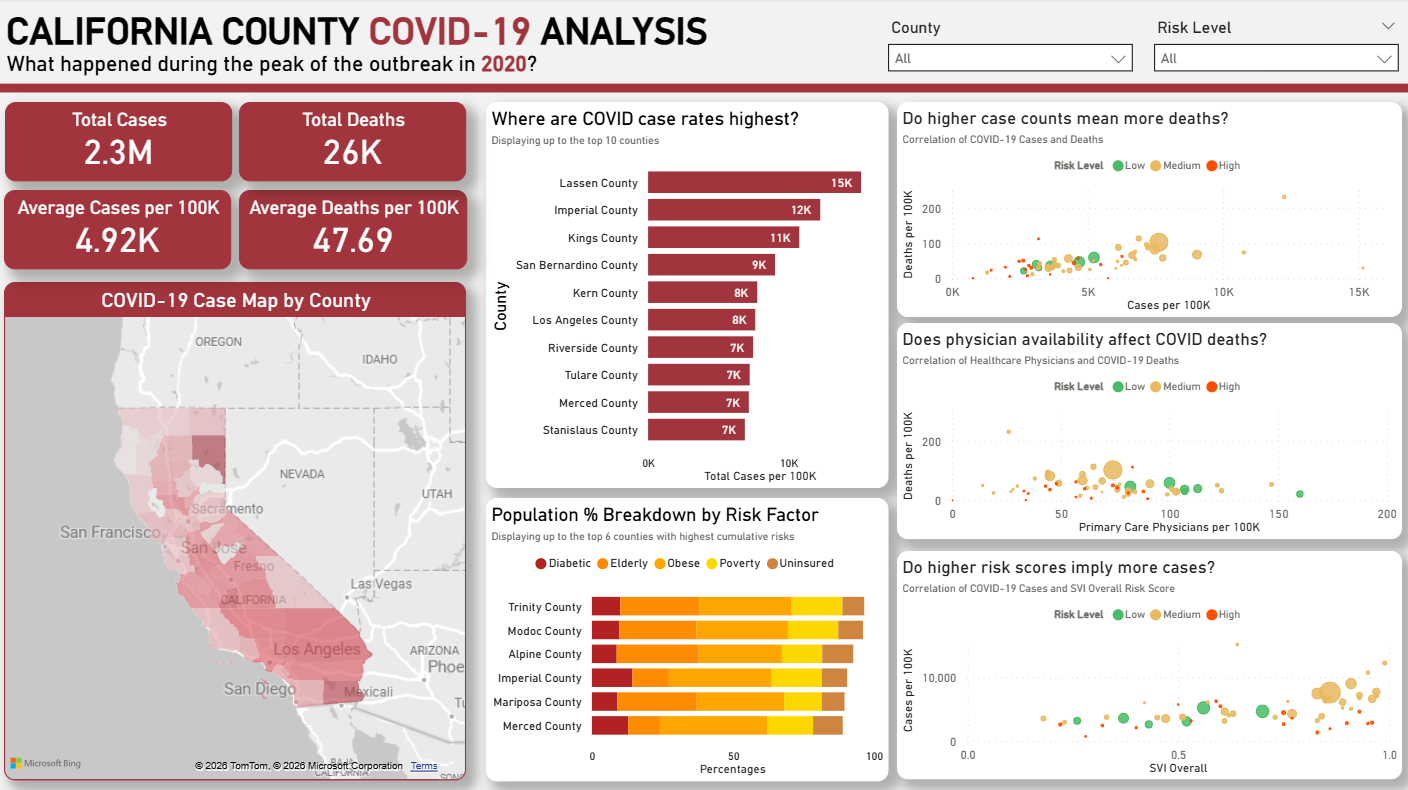

The dashboard page shown, as its layout file describes it:
{"tool":"powerbi","page":{"name":"Dashboard Overview","canvas":[1280,720],"ordinal":0},"visuals":[{"type":"card","title":"Total Cases","fields":{"Values":["Sum(County Data.Total Cases)"]},"box":[6,94,205.6,72],"z":0},{"type":"filledMap","title":"COVID-19 Case Map by County","fields":{"Category":["County Data.County"]},"box":[5.8,257.9,419.3,451.8],"z":1000},{"type":"clusteredBarChart","title":"Where are COVID case rates highest?","fields":{"Category":["County Data.County"],"Y":["Sum(County Data.Cases per 100K)"]},"box":[442.6,94.3,364.7,350.2],"z":4000},{"type":"scatterChart","title":"Do higher case counts mean more deaths?","fields":{"Series":["RiskLevelTable.Risk Level"],"Size":["Sum(County Data.Population)"],"X":["County Data.Cases per 100K"],"Y":["County Data.Deaths per 100K"]},"box":[815.1,94.3,458.1,194.5],"z":5000},{"type":"slicer","fields":{"Values":["County Data.County"]},"box":[796.8,13.9,241.6,61.6],"z":6000},{"type":"slicer","fields":{"Values":["RiskLevelTable.Risk Level"]},"box":[1038.4,13.9,241.6,61.6],"z":7000},{"type":"barChart","title":"Population % Breakdown by Risk Factor","fields":{"Category":["County Data.County"],"Y":["County Data.% Diabetic","County Data.% Elderly","County Data.% Obese","County Data.% Poverty","County Data.% Uninsured"]},"box":[442.6,453.3,364.7,256.8],"z":8000},{"type":"textbox","box":[3,5,663.2,70.9],"z":9000},{"type":"card","title":"Average Cases per 100K","fields":{"Values":["Avg(County Data.Cases per 100K)"]},"box":[5.8,174.2,205.6,72],"z":10000},{"type":"card","title":"Average Deaths per 100K","fields":{"Values":["Avg(County Data.Deaths per 100K)"]},"box":[218.4,174.2,206.8,72],"z":11000},{"type":"card","title":"Total Deaths","fields":{"Values":["Sum(County Data.Total Deaths)"]},"box":[218.4,94.1,205.6,72],"z":12000},{"type":"shape","box":[0,75.5,1280,12.8],"z":13000},{"type":"scatterChart","title":"Does physician availability affect COVID deaths?","fields":{"Series":["RiskLevelTable.Risk Level"],"Size":["Sum(County Data.Population)"],"X":["County Data.Primary Care Physicians per 100K"],"Y":["County Data.Deaths per 100K"]},"box":[815.1,294.7,458.1,195.5],"z":14000},{"type":"scatterChart","title":"Do higher risk scores imply more cases?","fields":{"Series":["RiskLevelTable.Risk Level"],"Size":["Sum(County Data.Population)"],"X":["County Data.SVI Overall"],"Y":["County Data.Cases per 100K"]},"box":[815.1,501.9,458.1,207.2],"z":14500}]}

Visuals, with their boxes in screenshot pixels (x1, y1, x2, y2), scaled from the page's 1280x720 canvas onto the 1408x790 screenshot:
"Total Cases" card: l=7, t=103, r=233, b=182
"COVID-19 Case Map by County" filledMap: l=6, t=283, r=468, b=779
"Where are COVID case rates highest?" clusteredBarChart: l=487, t=103, r=888, b=488
"Do higher case counts mean more deaths?" scatterChart: l=897, t=103, r=1401, b=317
slicer - County Data.County: l=876, t=15, r=1142, b=83
slicer - RiskLevelTable.Risk Level: l=1142, t=15, r=1407, b=83
"Population % Breakdown by Risk Factor" barChart: l=487, t=497, r=888, b=779
textbox: l=3, t=5, r=733, b=83
"Average Cases per 100K" card: l=6, t=191, r=233, b=270
"Average Deaths per 100K" card: l=240, t=191, r=468, b=270
"Total Deaths" card: l=240, t=103, r=466, b=182
shape: l=0, t=83, r=1407, b=97
"Does physician availability affect COVID deaths?" scatterChart: l=897, t=323, r=1401, b=538
"Do higher risk scores imply more cases?" scatterChart: l=897, t=551, r=1401, b=778
